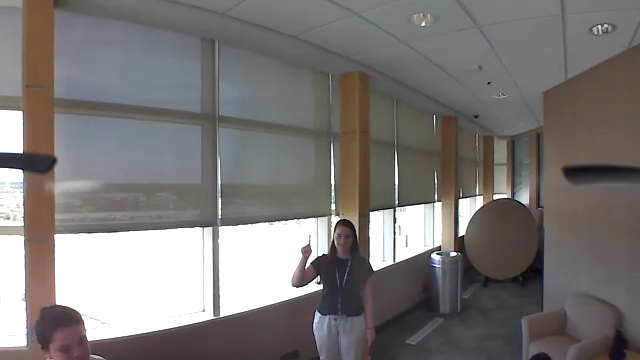up: (297, 232, 315, 259)
